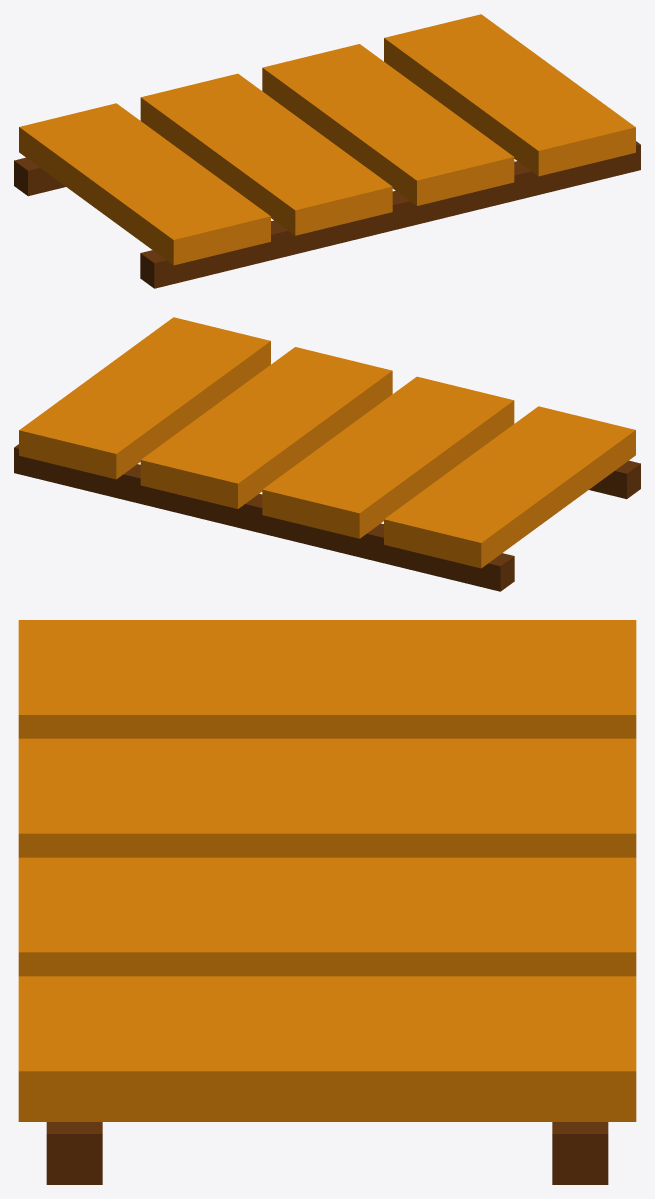
File: fence2.fbx
3 renders of one model, top to bottom at view 1: azimuth 30°, elevation 25°; view 2: azimuth 150°, elevation 25°; view 3: azimuth 270°, elevation 25°, orthographic. The views are drawn at different scales.
Visible parts, largest first — view 1: Cube; view 2: Cube; view 3: Cube.
Boxes of the visible parts, box(x1,y1,x2,y2) form: Cube: box(14, 14, 640, 288); Cube: box(14, 317, 640, 591); Cube: box(18, 620, 636, 1184).
Size of the model in its own units: 400 by 40 by 220.
